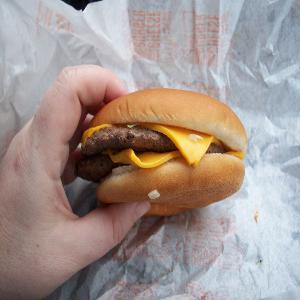cheeseburger_475cal: (84, 88, 250, 219)
